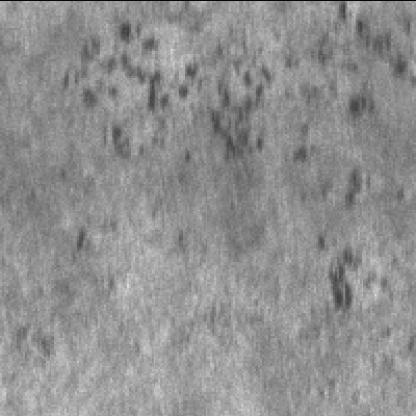rolled-in_scale: (38, 8, 324, 162), (301, 129, 384, 335), (302, 0, 416, 120)
